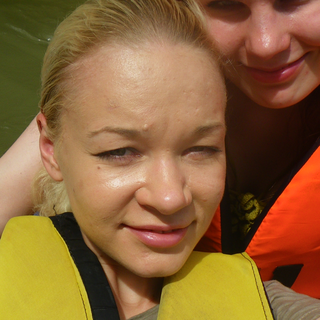eye: (179, 139, 223, 162), (93, 143, 141, 163)
